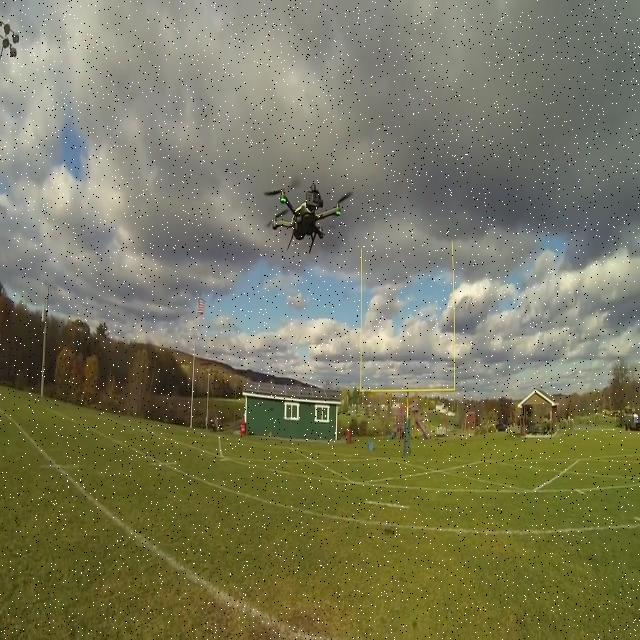UAV: (263, 177, 353, 253)
